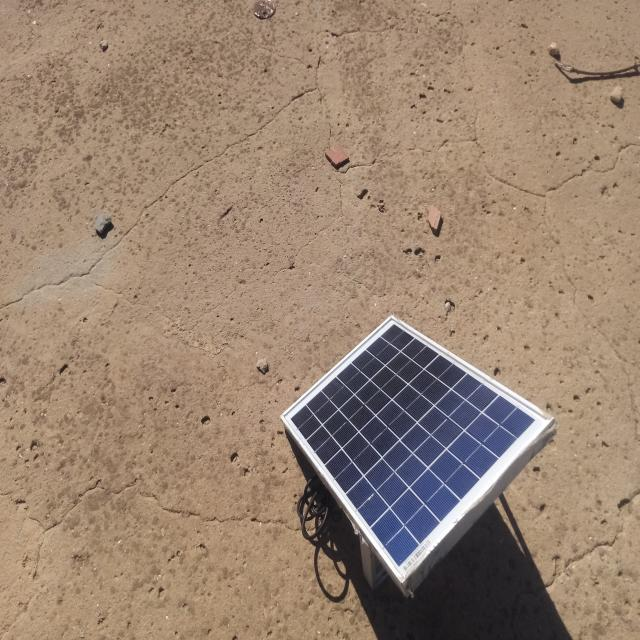no faulty: (282, 317, 554, 585)
